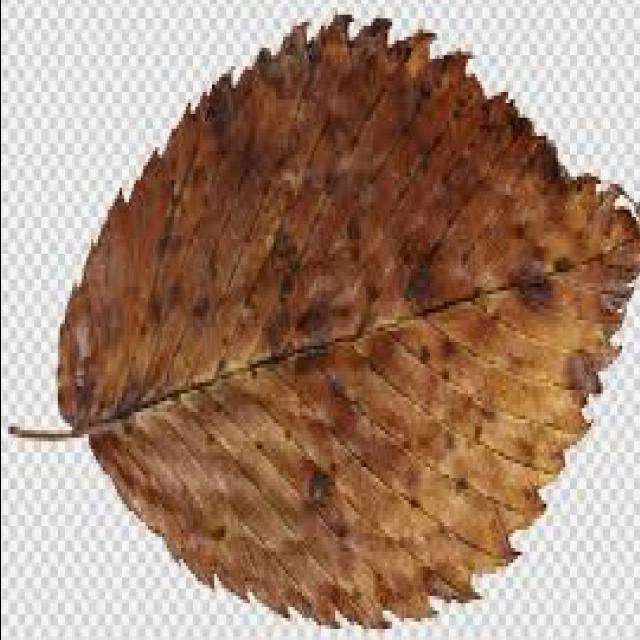leaf: (50, 12, 638, 629)
